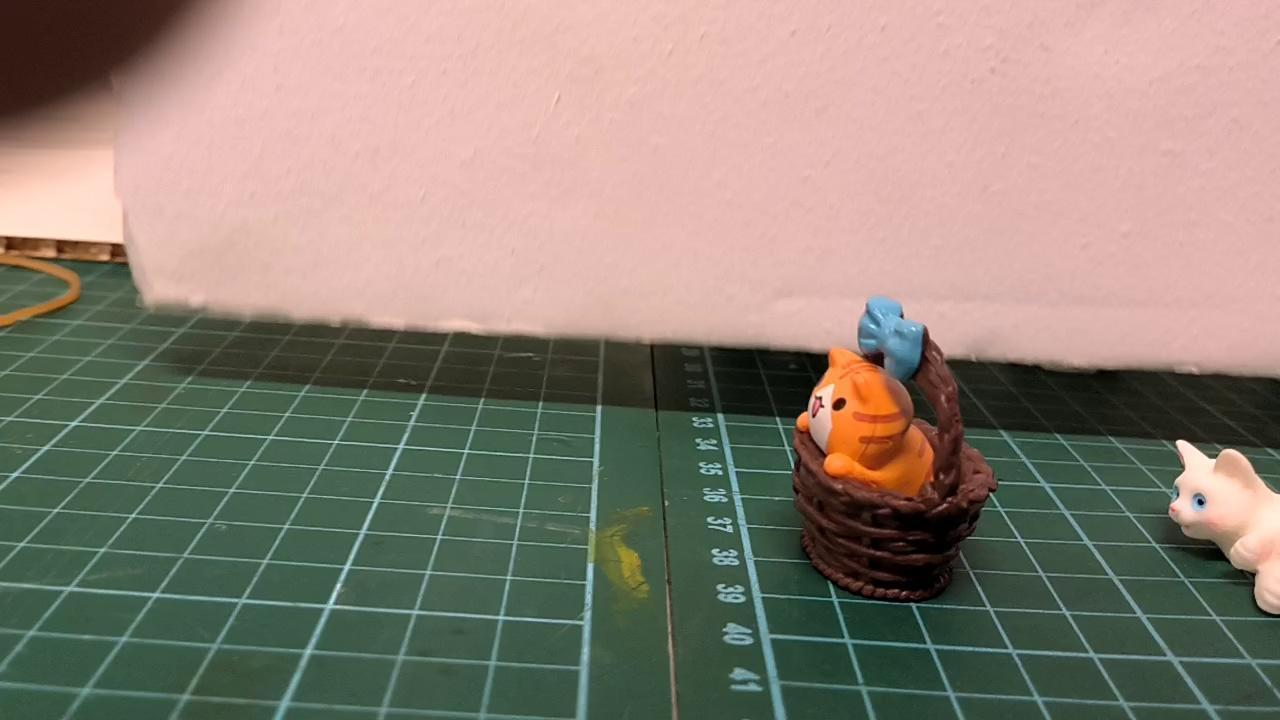pet: (797, 343, 940, 506), (1163, 434, 1280, 618)
